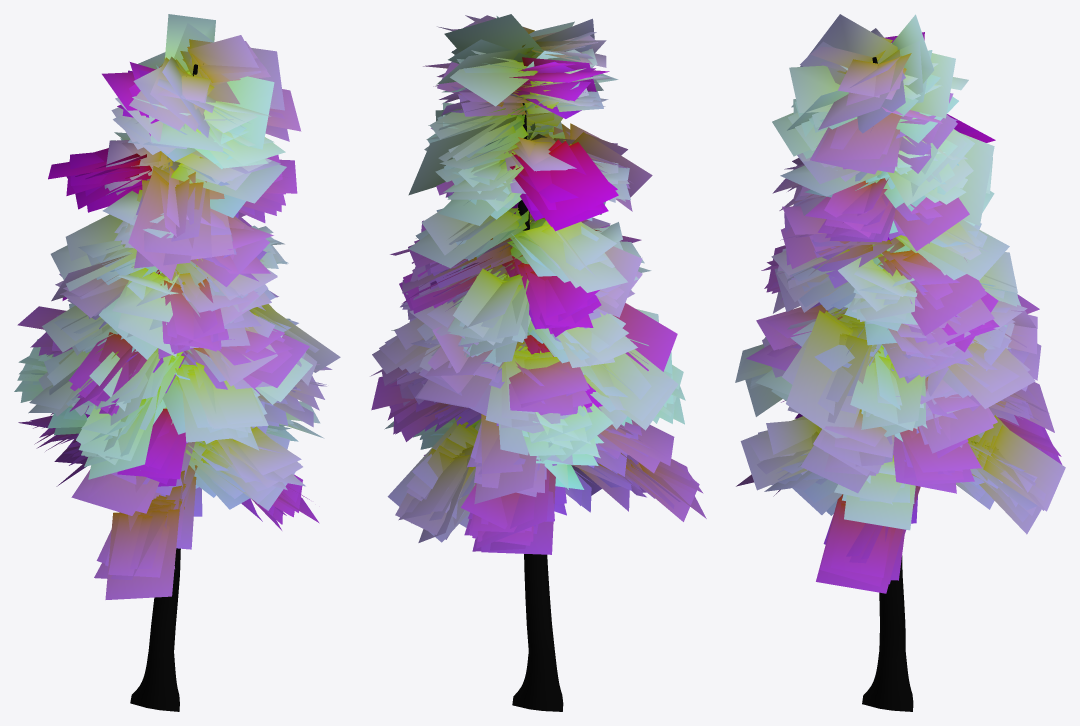
The model's file is tree_cedar_c.glb.
3 views of the same model, side by side, from view 1: azimuth 30°, elevation 25°; view 2: azimuth 150°, elevation 25°; view 3: azimuth 270°, elevation 25° (orthographic). The views are drawn at different scales.
Parts seen in each view (by area): view 1: tree_cedar_c; view 2: tree_cedar_c; view 3: tree_cedar_c.
Boxes of the visible parts, x1,y1,x2,y2 form: tree_cedar_c: [14, 14, 340, 711]; tree_cedar_c: [370, 14, 706, 711]; tree_cedar_c: [735, 14, 1065, 711].
Size of the model in its own units: 10.84 by 26.22 by 11.27.
